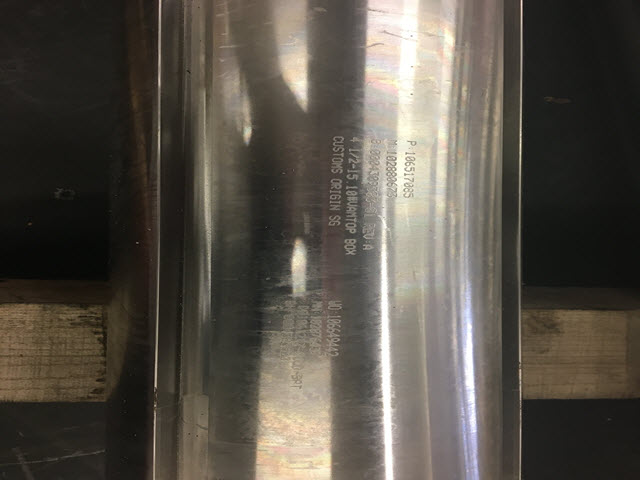character: (332, 134, 347, 144), (328, 151, 346, 159), (327, 162, 345, 170), (346, 171, 359, 182), (328, 202, 342, 212), (341, 237, 358, 245), (330, 144, 345, 153), (402, 191, 418, 199), (331, 140, 346, 148), (403, 150, 417, 158), (402, 180, 416, 188), (405, 138, 417, 147), (330, 156, 345, 163), (403, 155, 418, 162), (402, 166, 417, 173), (403, 175, 416, 183), (385, 154, 398, 162), (343, 248, 356, 256), (402, 160, 416, 167), (384, 170, 398, 177), (342, 243, 356, 250), (328, 193, 342, 200), (328, 168, 344, 174), (402, 171, 418, 177), (385, 165, 398, 172), (327, 199, 342, 205), (328, 189, 343, 195), (385, 160, 397, 167), (347, 158, 359, 165), (362, 244, 373, 251), (403, 187, 415, 193)
